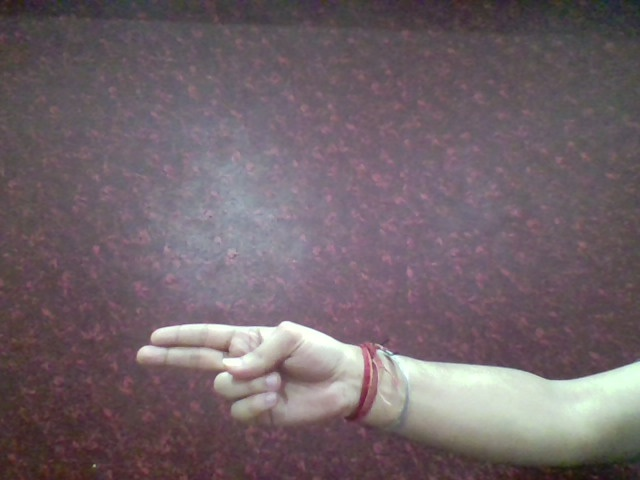h: (124, 314, 354, 441)
